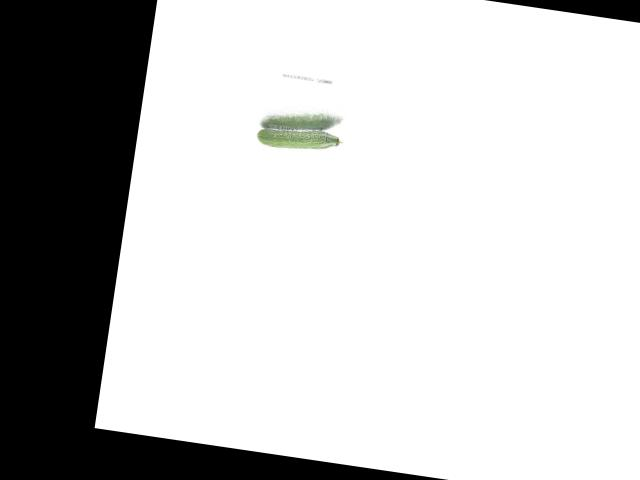cucumber: (256, 121, 344, 156)
